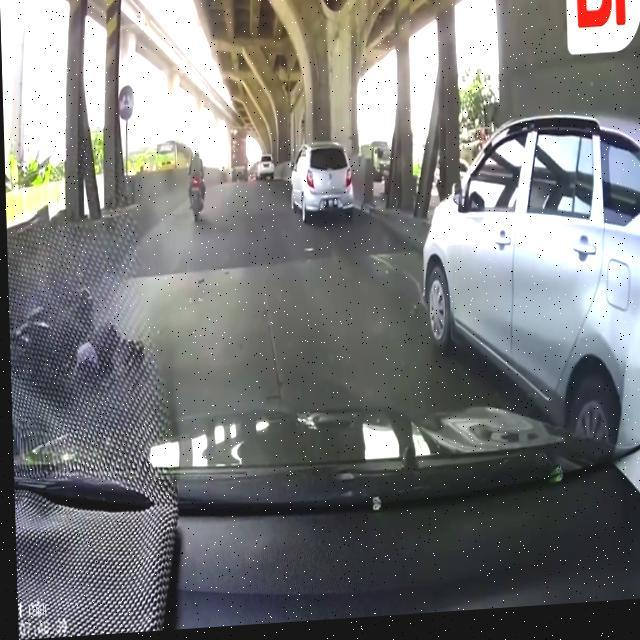normal: (405, 70, 640, 515), (267, 122, 382, 240), (165, 133, 220, 237)
